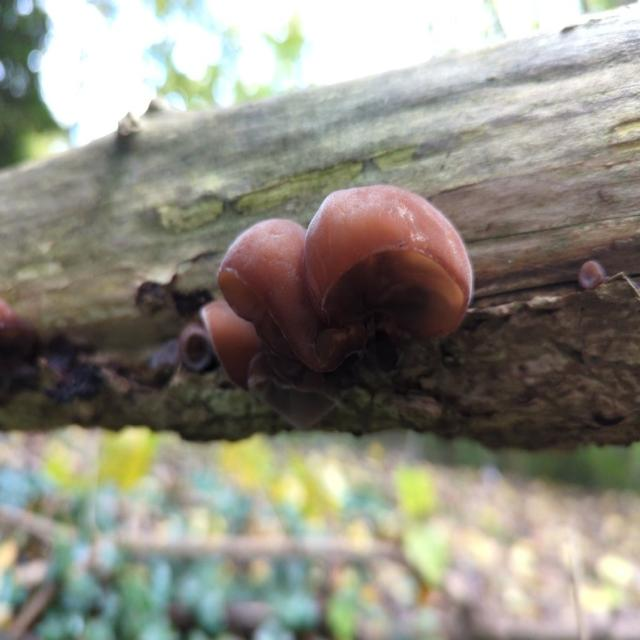Matang: (306, 182, 476, 375), (215, 210, 328, 398), (246, 345, 344, 436), (196, 295, 275, 396)
